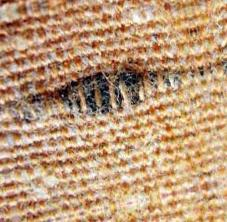slub: (3, 64, 222, 119)
